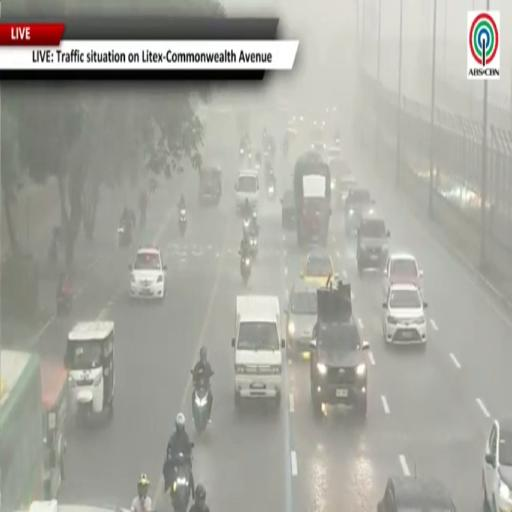bus: (0, 350, 44, 511)
car: (310, 283, 369, 420), (232, 296, 285, 410), (378, 476, 456, 511), (382, 284, 426, 346), (483, 418, 511, 511), (285, 281, 317, 359), (357, 211, 390, 274), (129, 247, 166, 299), (383, 253, 423, 296), (328, 148, 354, 203), (301, 248, 337, 287), (345, 187, 374, 235), (236, 169, 259, 212), (198, 166, 221, 204), (281, 190, 296, 230), (311, 140, 326, 154), (327, 147, 341, 158)
motorcycle: (171, 454, 191, 511), (193, 379, 210, 435), (57, 284, 73, 315), (240, 253, 251, 285), (118, 222, 132, 247), (249, 234, 258, 259), (179, 208, 187, 236), (243, 218, 251, 234), (268, 183, 275, 200), (240, 148, 245, 162)
truck: (294, 152, 331, 247)
